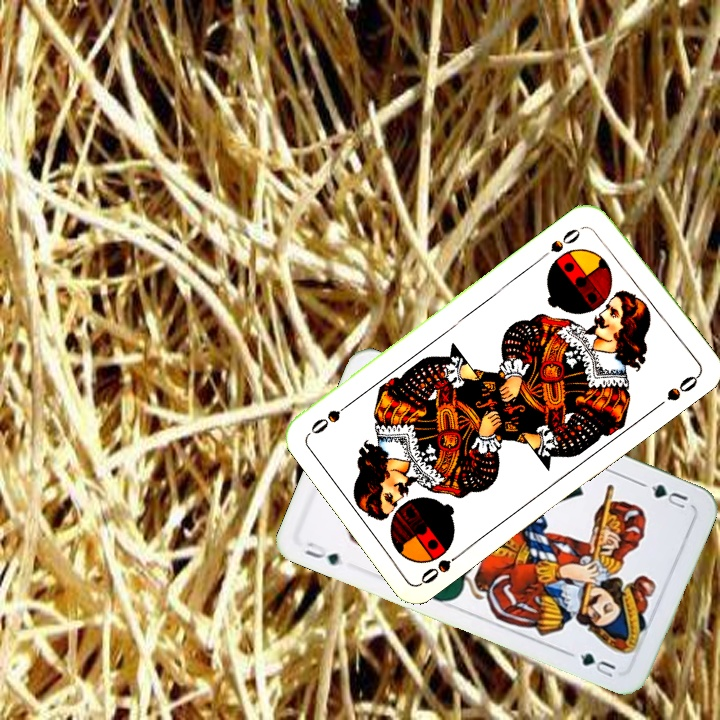GU: (647, 480, 691, 513), (300, 537, 346, 568)
SO: (416, 545, 469, 587), (546, 224, 584, 256)
